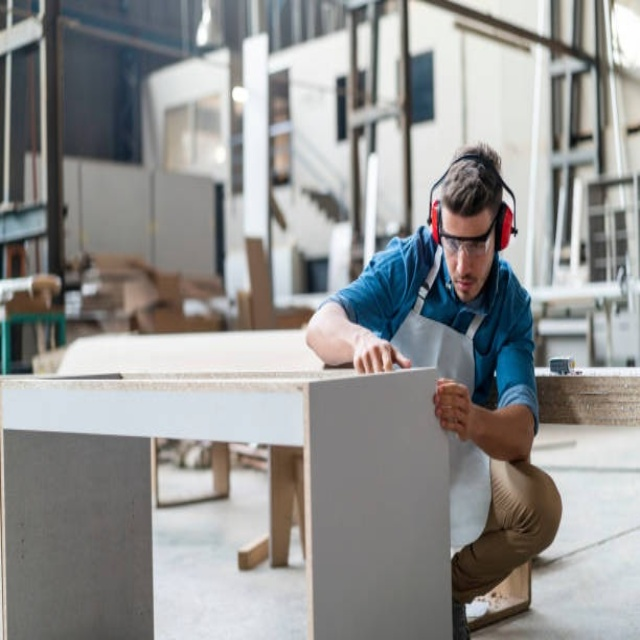Gafas: (437, 214, 498, 256)
Sin_guantes: (352, 329, 412, 376), (434, 378, 471, 437)
Sin_mascara: (452, 273, 474, 300)
